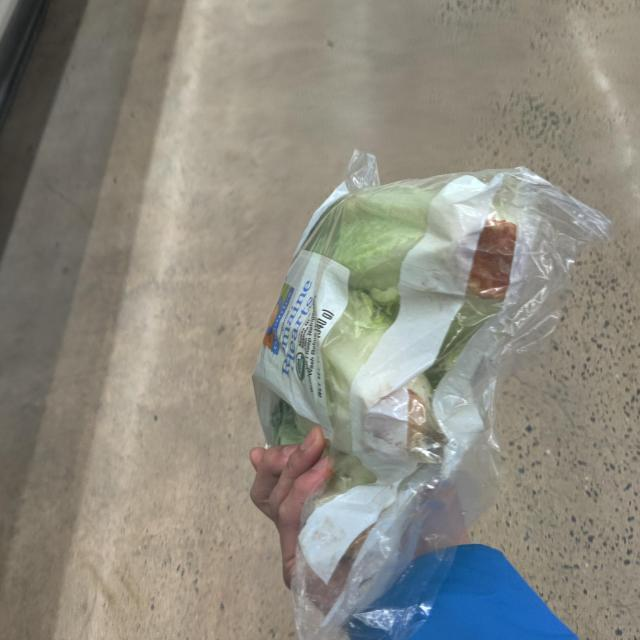Lettuce: (244, 145, 568, 600)
